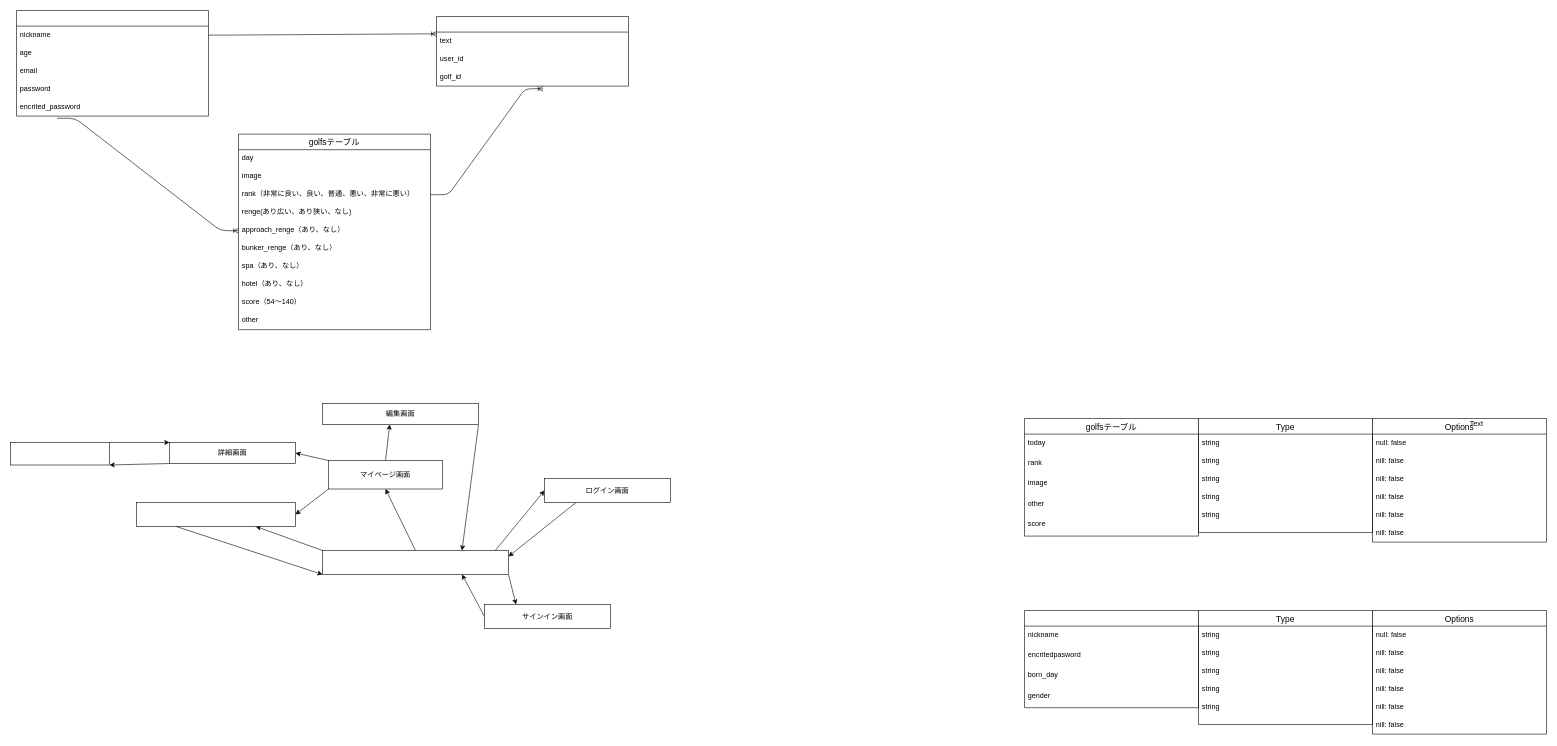
Image size: 1557x746. Some labels were removed from this diagram. The shapes that lost their labels are listed below. From the top down, each one's box as (x1, y1, x2, y2) in pixels, then its label:
(16, 10, 208, 116): Users テーブル
(436, 16, 628, 86): Commentsテーブル
(10, 442, 110, 465): コメント投稿画面
(136, 502, 296, 526): 投稿画面
(322, 550, 508, 574): トップページ 投稿内容が表示される
(1024, 610, 1198, 708): usersテーブル
